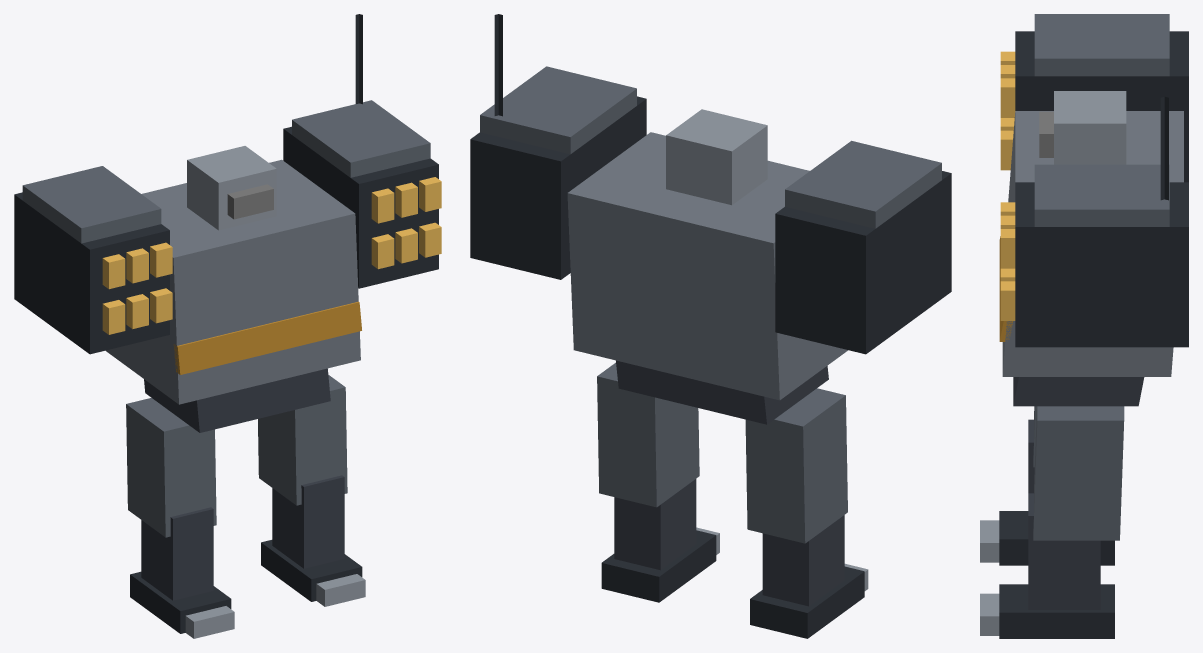
The model's file is javelin-attack-0.obj.
3 views of the same model, side by side, from view 1: azimuth 30°, elevation 25°; view 2: azimuth 150°, elevation 25°; view 3: azimuth 270°, elevation 25° (orthographic). The views are drawn at different scales.
Visible parts, largest first — view 1: javelin-attack-0; view 2: javelin-attack-0; view 3: javelin-attack-0.
Boxes of the visible parts, x1,y1,x2,y2 form: javelin-attack-0: (14,14,441,638); javelin-attack-0: (470,14,951,638); javelin-attack-0: (980,14,1188,638).
Size of the model in its own units: 1.92 by 2.65 by 0.8658.
